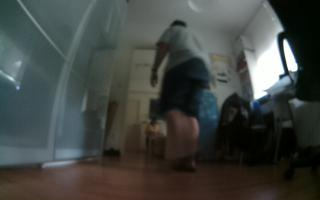person: (146, 16, 218, 176), (138, 115, 166, 169)
